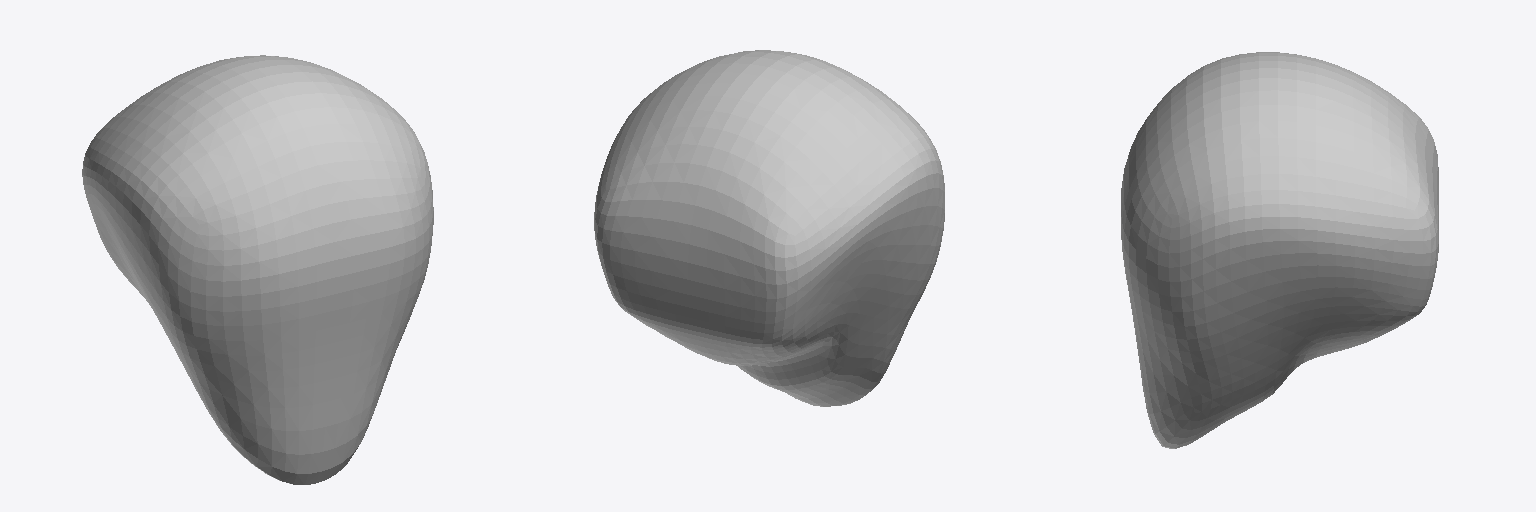
File: m_head.obj
The picture shows the model from 3 angles: view 1: azimuth 30°, elevation 25°; view 2: azimuth 150°, elevation 25°; view 3: azimuth 270°, elevation 25°; orthographic projection.
Parts seen in each view (by area): view 1: pCube4; view 2: pCube4; view 3: pCube4.
Boxes of the visible parts, <box> form: pCube4: <box>82,55,433,484</box>; pCube4: <box>594,50,944,406</box>; pCube4: <box>1121,52,1438,448</box>.
Size of the model in its own units: 1.06 by 1.35 by 1.03.